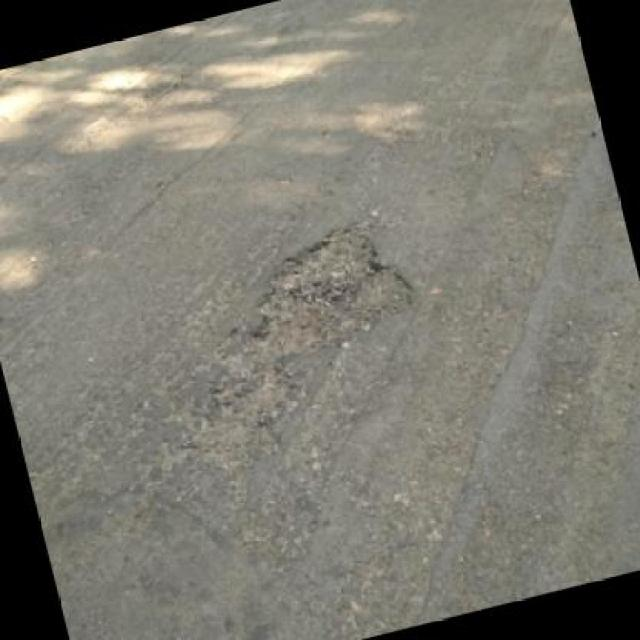pothole: (228, 212, 426, 378), (162, 364, 316, 482), (119, 76, 188, 115)
